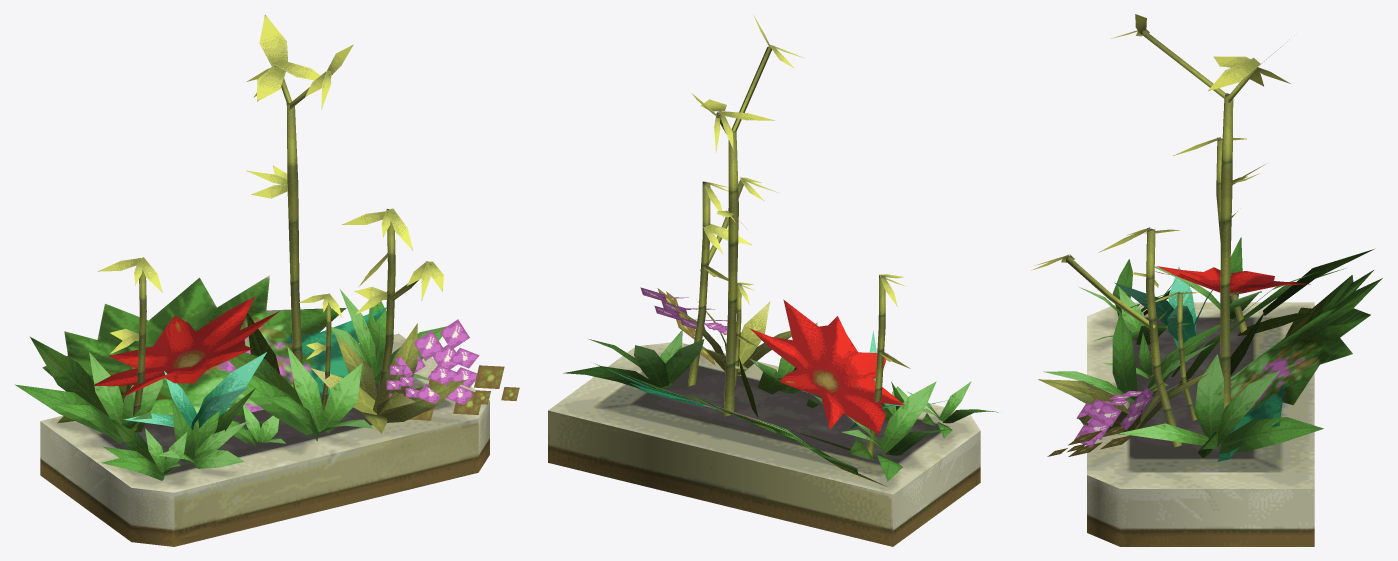
File: shrine_plant010_05.FBX
3 renders of one model, left to right at view 1: azimuth 30°, elevation 25°; view 2: azimuth 150°, elevation 25°; view 3: azimuth 270°, elevation 25°, orthographic. The views are drawn at different scales.
Parts seen in each view (by area): view 1: shrine_plant010_05; view 2: shrine_plant010_05; view 3: shrine_plant010_05.
Boxes of the visible parts, x1,y1,x2,y2 form: shrine_plant010_05: (15,14,519,546); shrine_plant010_05: (548,16,998,546); shrine_plant010_05: (1031,14,1382,546).
Size of the model in its own units: 122 by 130 by 89.62.
1 material, 1 textured.
